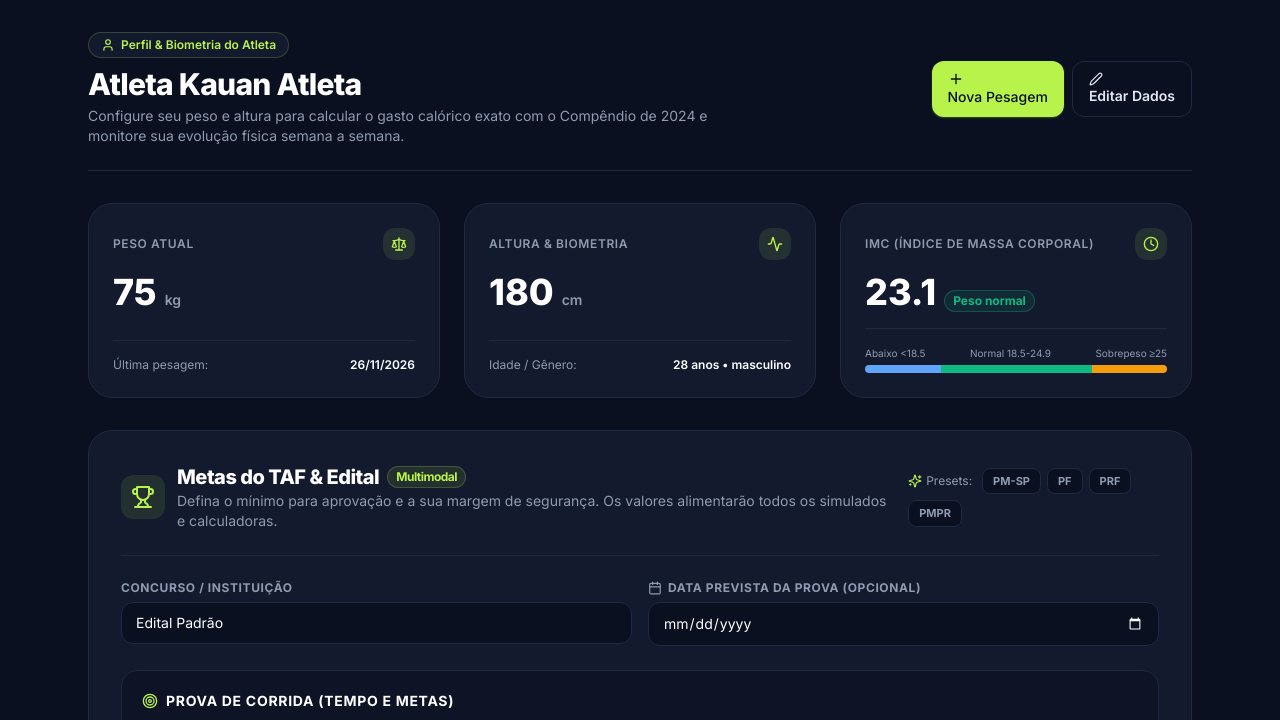
Scenario: PerfilPage Component › abre e fecha formulário de edição de dados biométricos
Expected: the heading "Atleta Kauan Atleta" is shown, [88, 66, 362, 102]
Click the button "Editar Dados" at (1132, 89), box [1072, 61, 1192, 117]
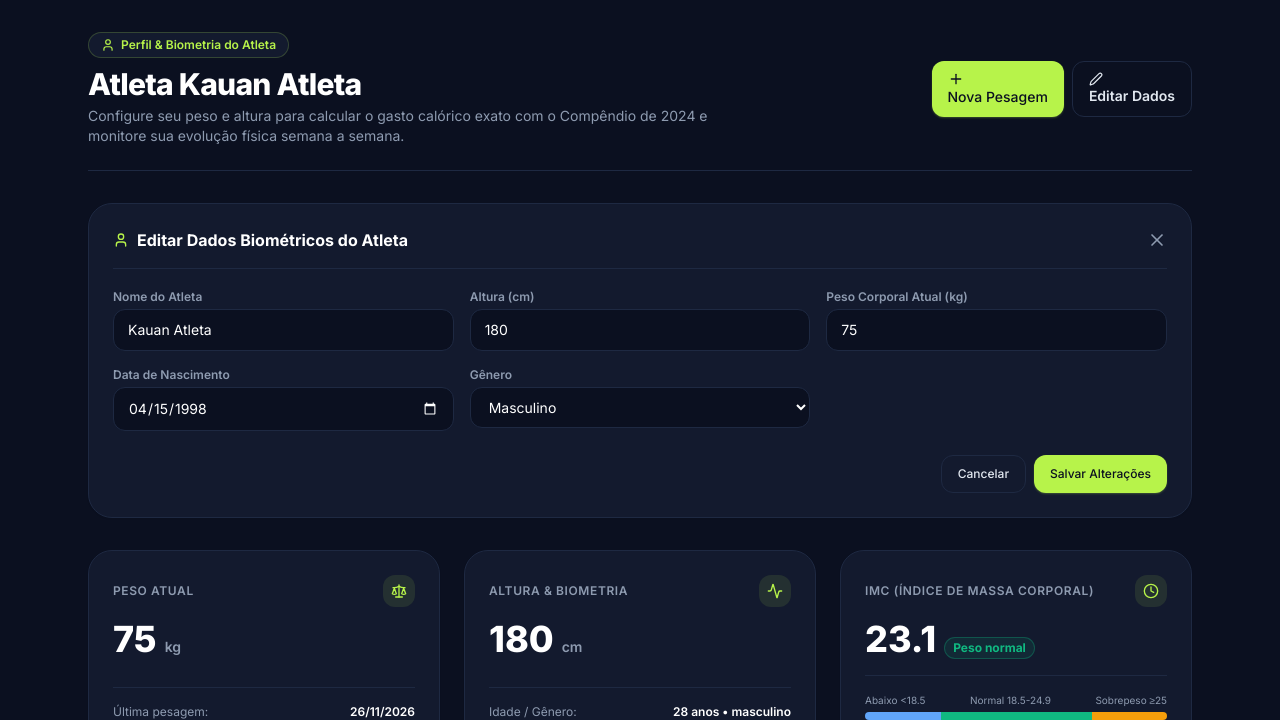
Expected: the heading "Editar Dados Biométricos do Atleta" is shown, [113, 228, 408, 252]
Click the button "Cancelar" at (983, 474), box [941, 455, 1026, 493]
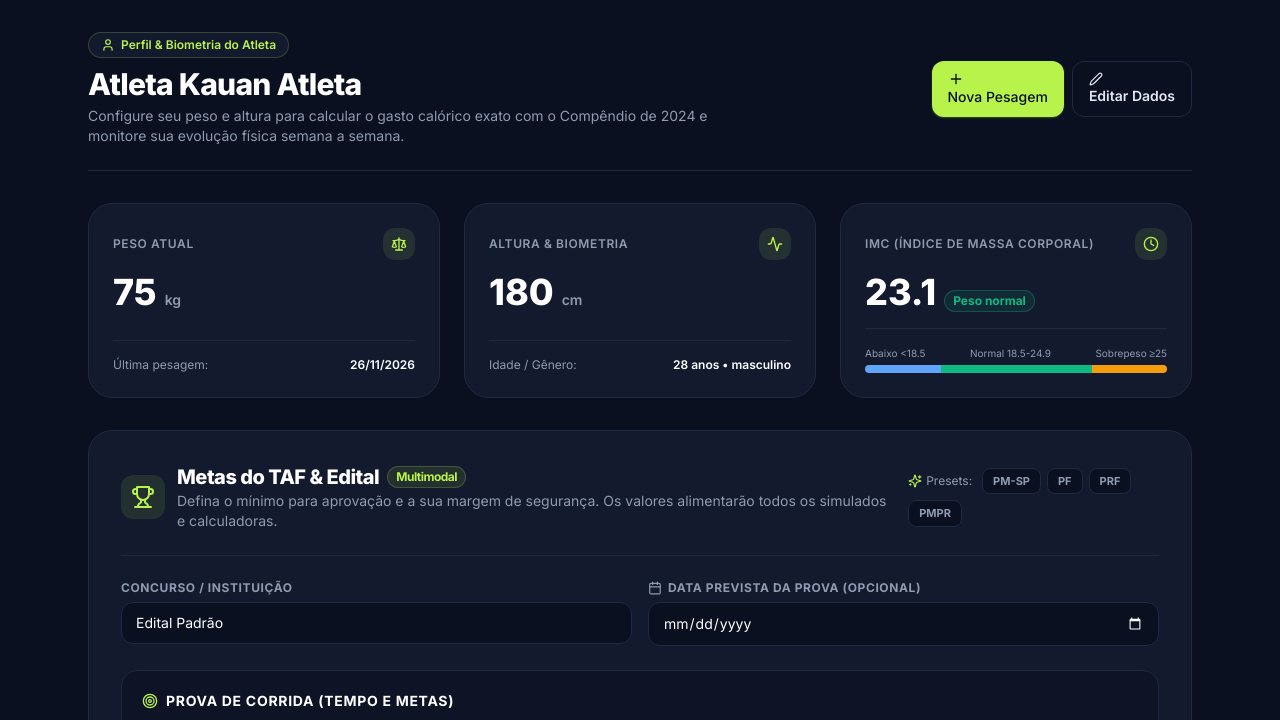
Expected: the heading "Editar Dados Biométricos do Atleta" is gone
